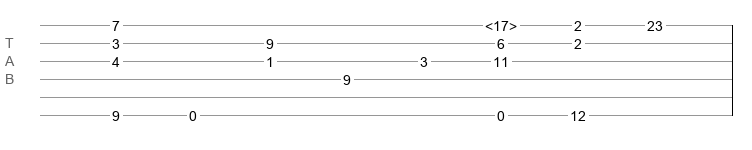0: (189, 108, 197, 118), (497, 108, 505, 118)
1: (266, 54, 274, 64)
11: (493, 54, 509, 64)
12: (570, 108, 586, 118)
2: (574, 18, 582, 28), (574, 36, 582, 46)
23: (647, 18, 663, 28)
3: (112, 36, 120, 46), (420, 54, 428, 64)
4: (112, 54, 120, 64)
6: (497, 36, 505, 46)
7: (112, 18, 120, 28)
9: (112, 108, 120, 118), (266, 36, 274, 46), (343, 72, 351, 82)
harmonic: (485, 18, 517, 28)
